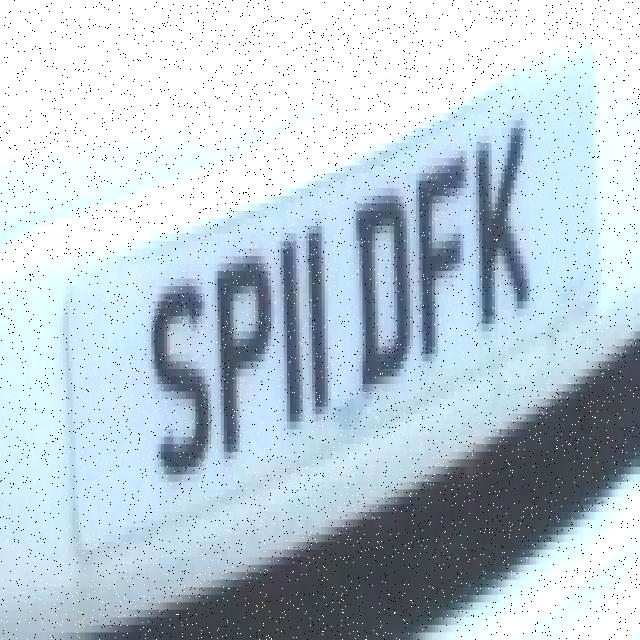licenseplate: (61, 34, 618, 546)
